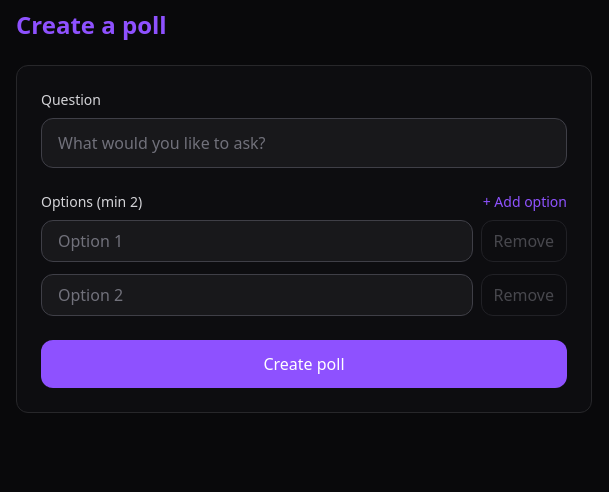
it: CreatePoll › shows error when only one option is filled
In the field with placeholder "What would you like to ask?": (304, 143) [41,118,567,168], type "Test question?"
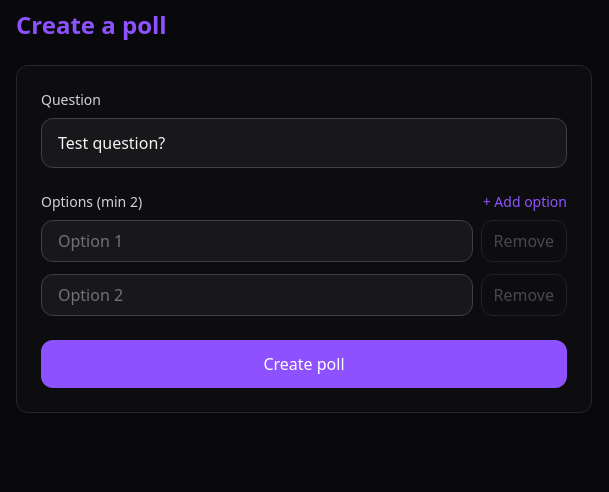
In the field with placeholder "Option 1": (257, 241) [41,220,472,262], type "Only one"
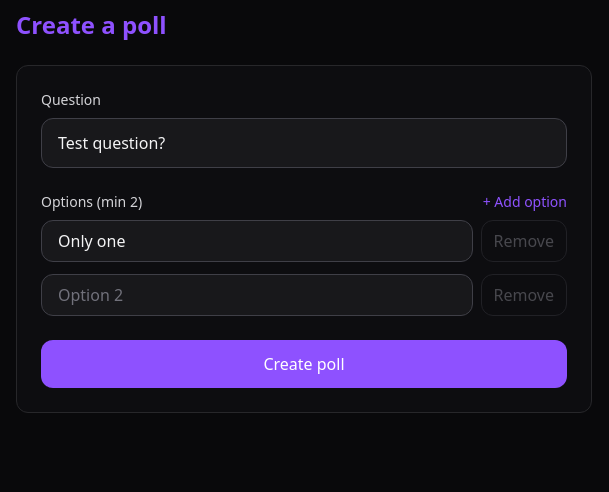
Click the button "Create poll": (304, 364) [41,340,567,388]
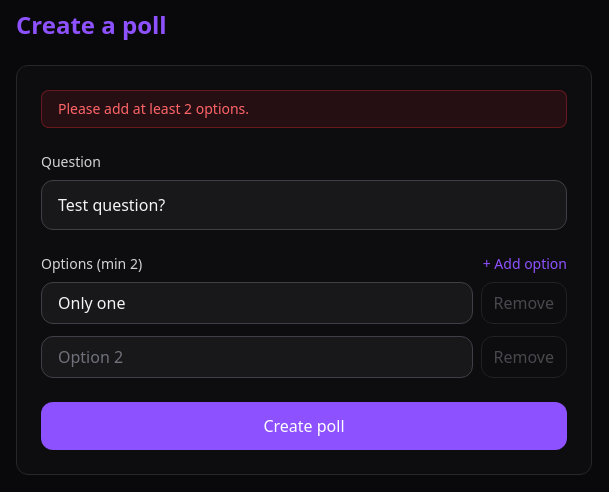
Expected: the text "Please add at least 2 options." is shown, [41,90,567,128]
